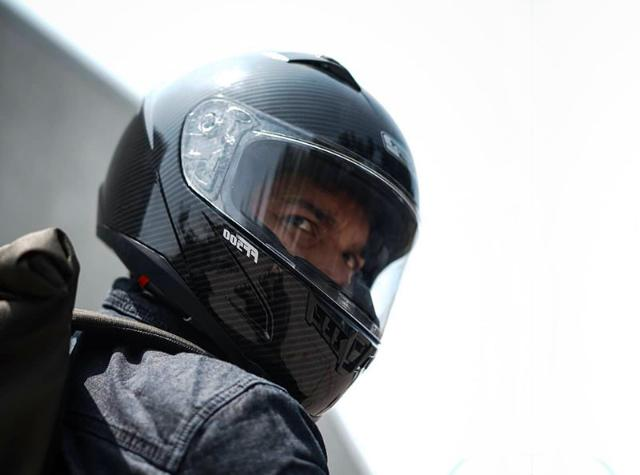helm: (89, 48, 427, 420)
